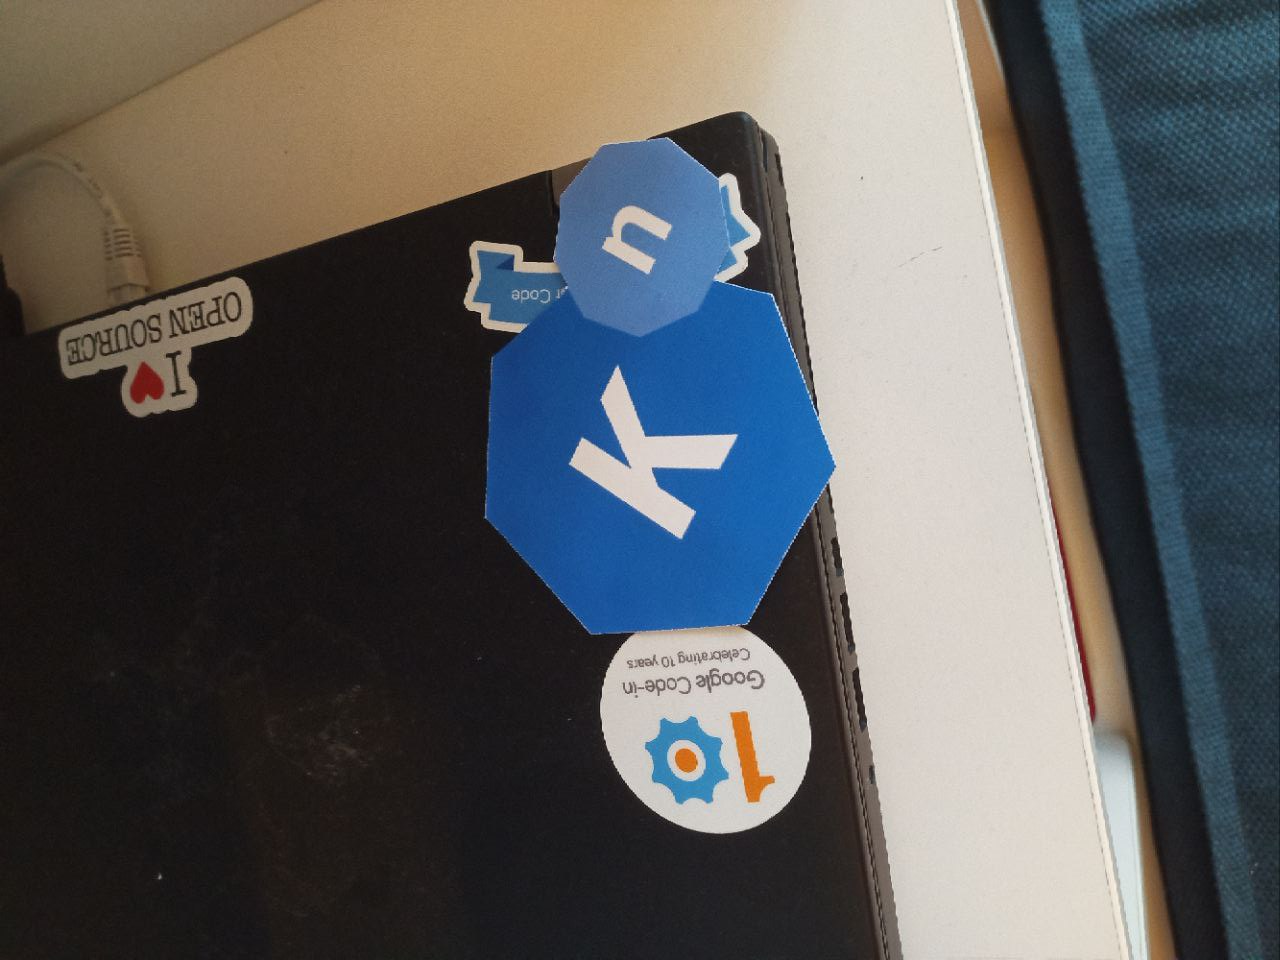knative: (484, 139, 835, 633)
